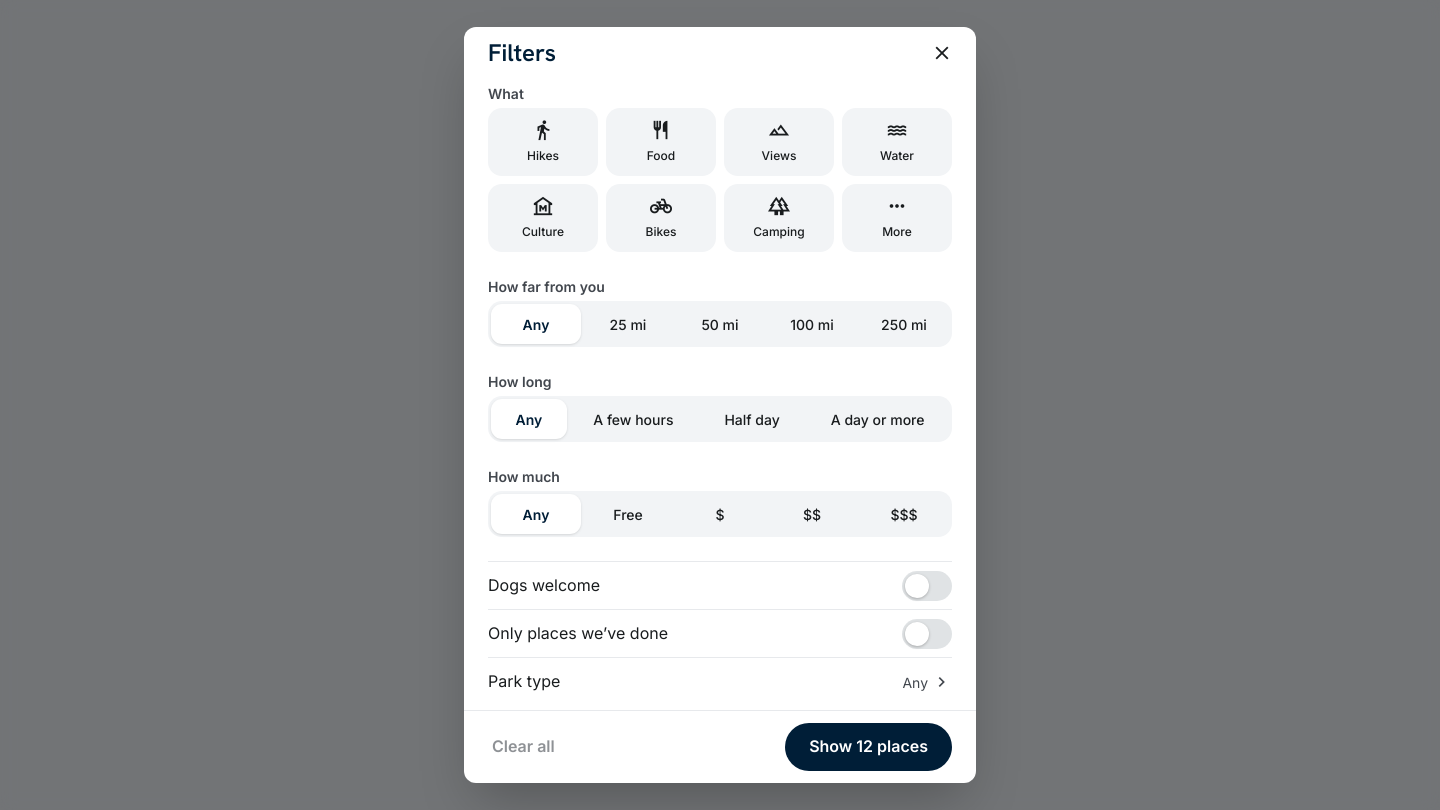
it: FilterSheet › opens the rest of the categories from More
Expected: the button "Climbing" is not shown
Click the button "More". click: (897, 218)
box: 842,184 -> 952,252
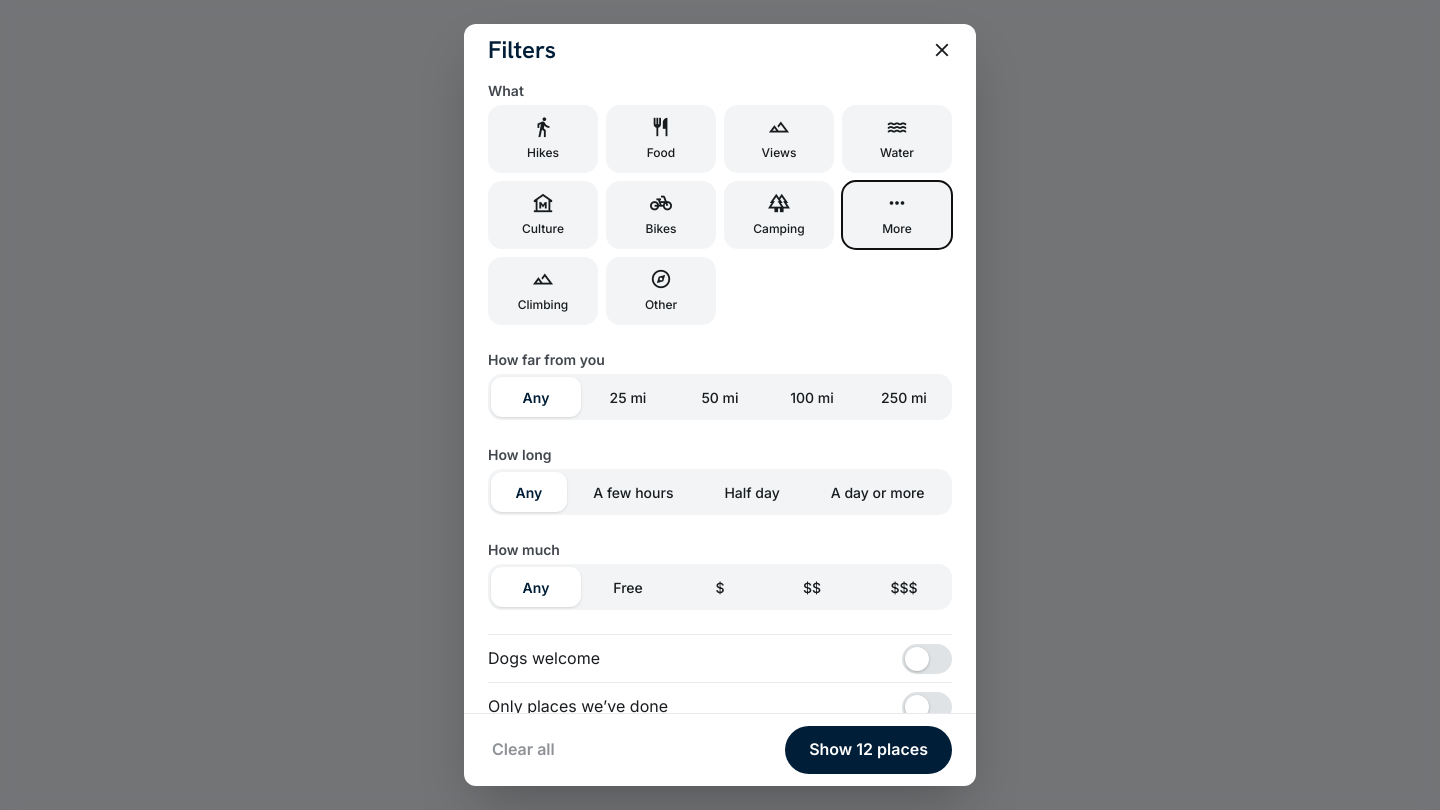
Now the button "More" is expanded, box 842,181 -> 952,249
Click the button "Climbing". click: (543, 291)
box: 488,257 -> 598,325
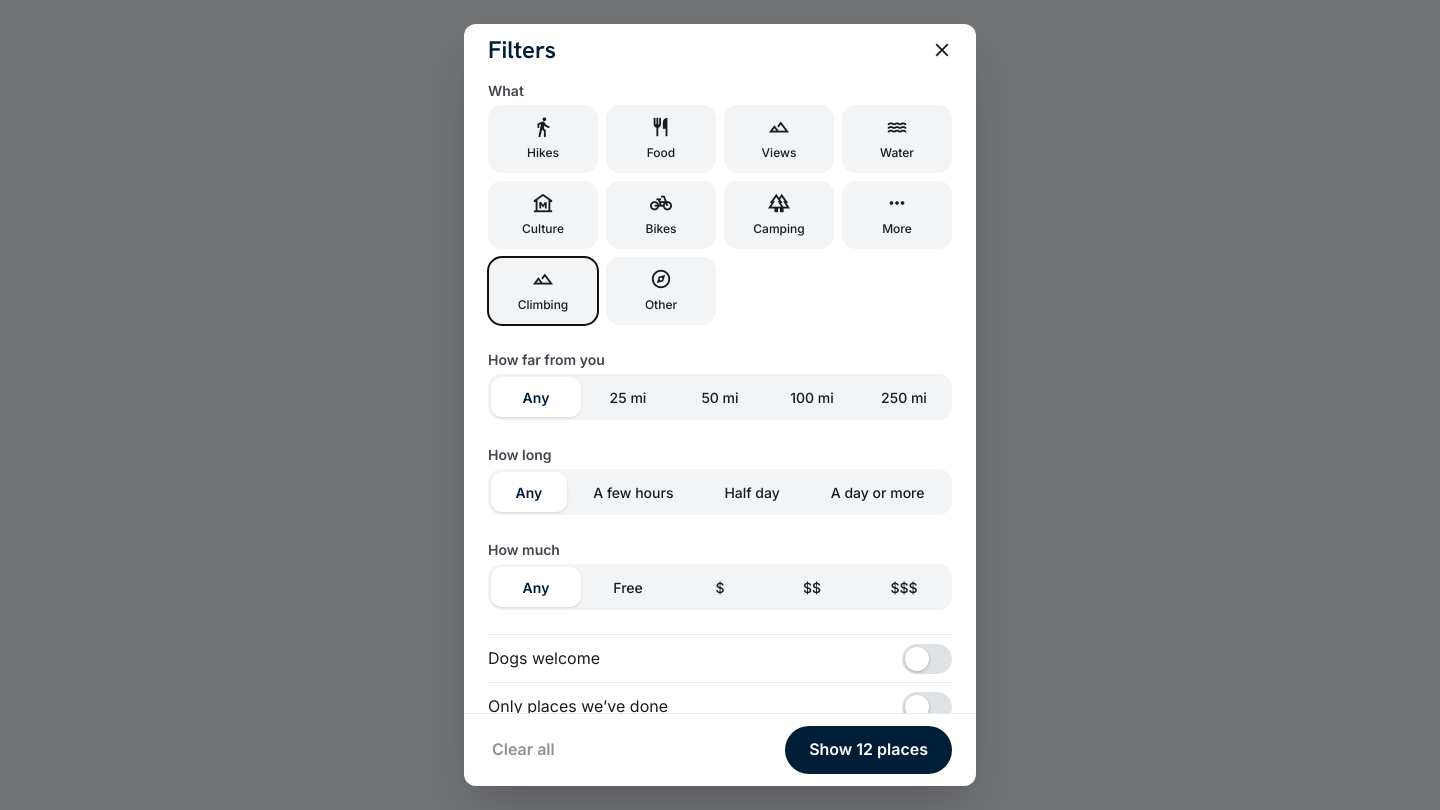
Click the button "Other". click: (661, 291)
box: 606,257 -> 716,325
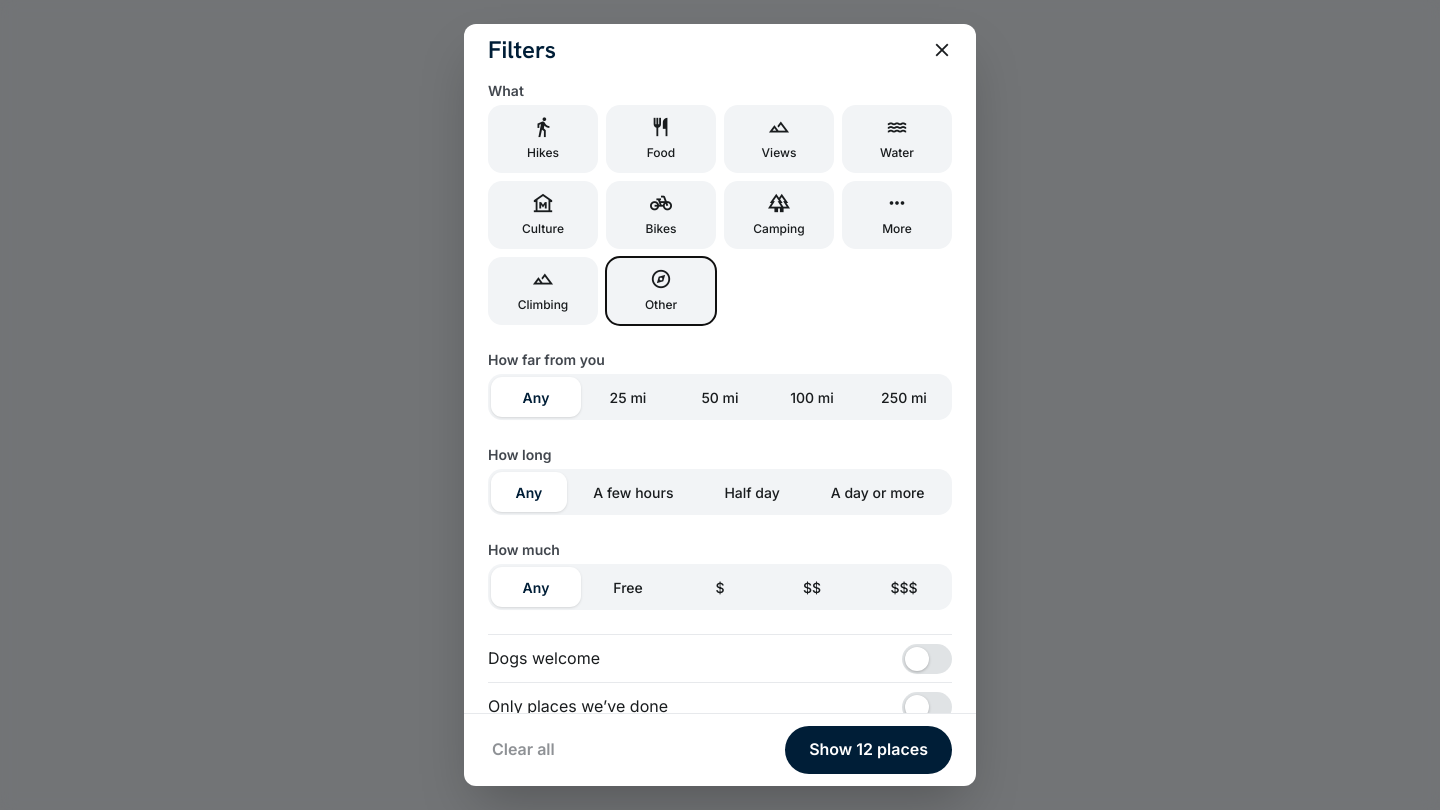
Click the button "More". click: (897, 215)
box: 842,181 -> 952,249
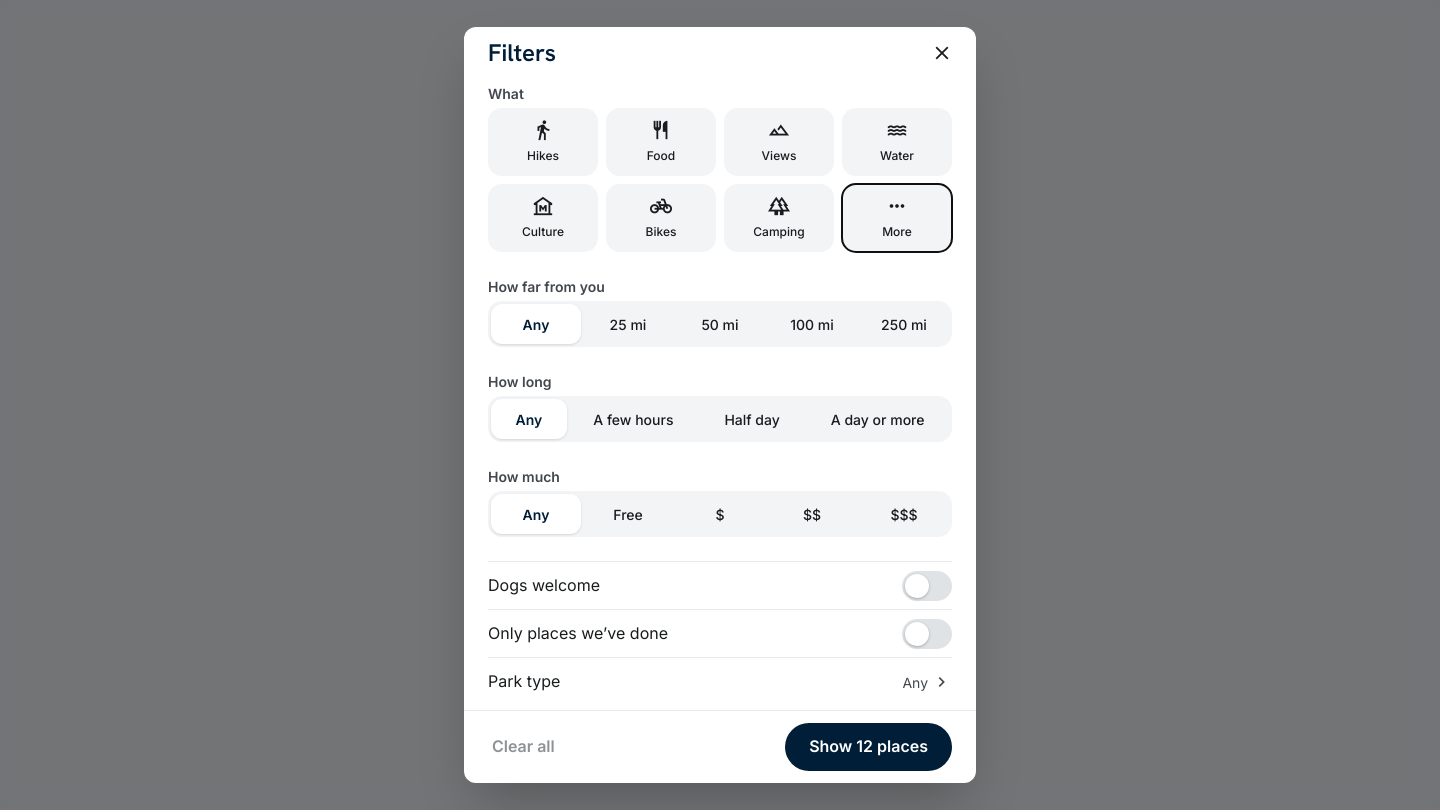
Now the button "Climbing" is gone
